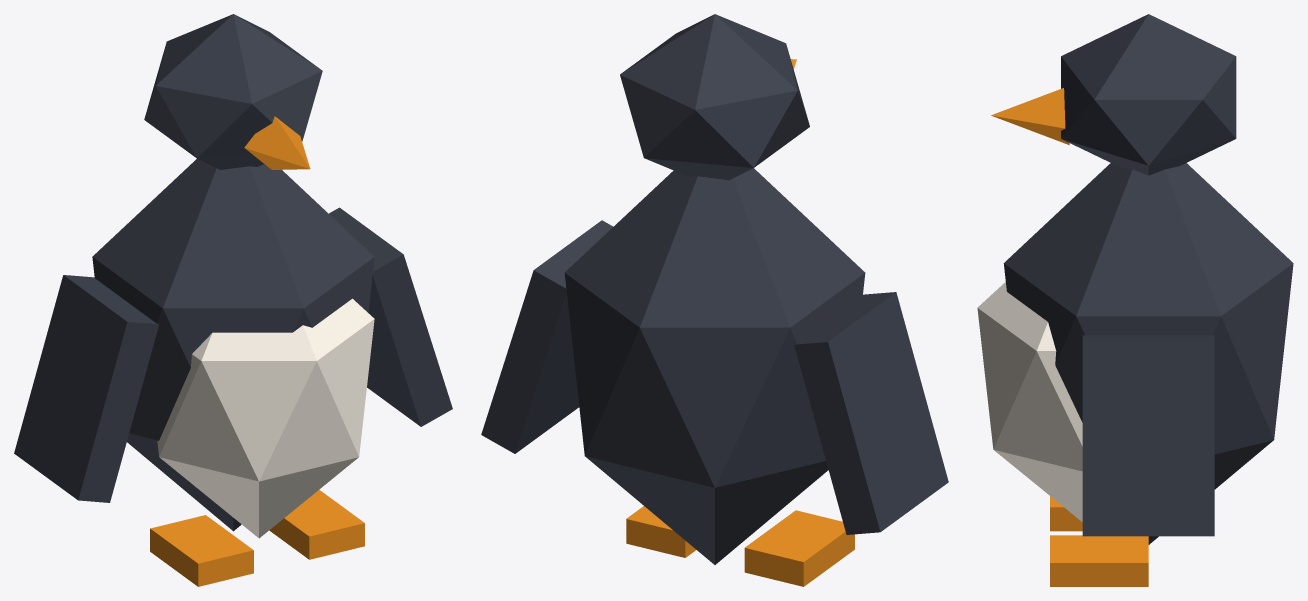
File: animal_penguin.glb
3 views of the same model, side by side, from view 1: azimuth 30°, elevation 25°; view 2: azimuth 150°, elevation 25°; view 3: azimuth 270°, elevation 25° (orthographic). The views are drawn at different scales.
Parts seen in each view (by area): view 1: animal_penguin; view 2: animal_penguin; view 3: animal_penguin.
Part boxes in pixels (left/top/right/bottom): animal_penguin: left=14, top=14, right=452, bottom=586; animal_penguin: left=481, top=14, right=948, bottom=586; animal_penguin: left=977, top=14, right=1293, bottom=586.
Bounding box in the file's own units: 0.0675 × 0.089 × 0.048.
